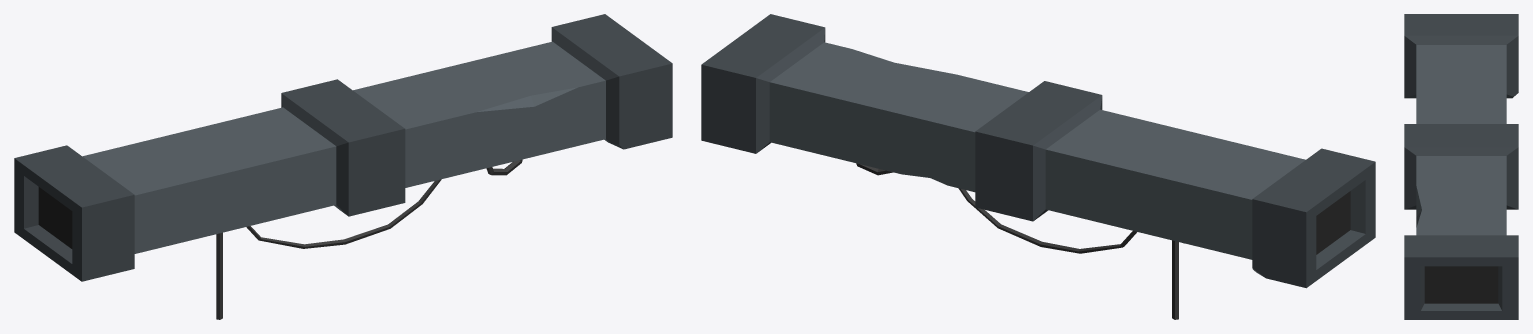
The model's file is SM_Prop_Detail_CeilingBox_03.fbx.
3 renders of one model, left to right at view 1: azimuth 30°, elevation 25°; view 2: azimuth 150°, elevation 25°; view 3: azimuth 270°, elevation 25°, orthographic. The views are drawn at different scales.
Parts seen in each view (by area): view 1: SM_Prop_Detail_CeilingBox_03; view 2: SM_Prop_Detail_CeilingBox_03; view 3: SM_Prop_Detail_CeilingBox_03.
Boxes of the visible parts, box(x1,y1,x2,y2) form: SM_Prop_Detail_CeilingBox_03: box(14, 14, 672, 319); SM_Prop_Detail_CeilingBox_03: box(701, 14, 1375, 319); SM_Prop_Detail_CeilingBox_03: box(1404, 14, 1518, 319).
Size of the model in its own units: 500 by 140 by 99.04.
1 material, 1 textured.
